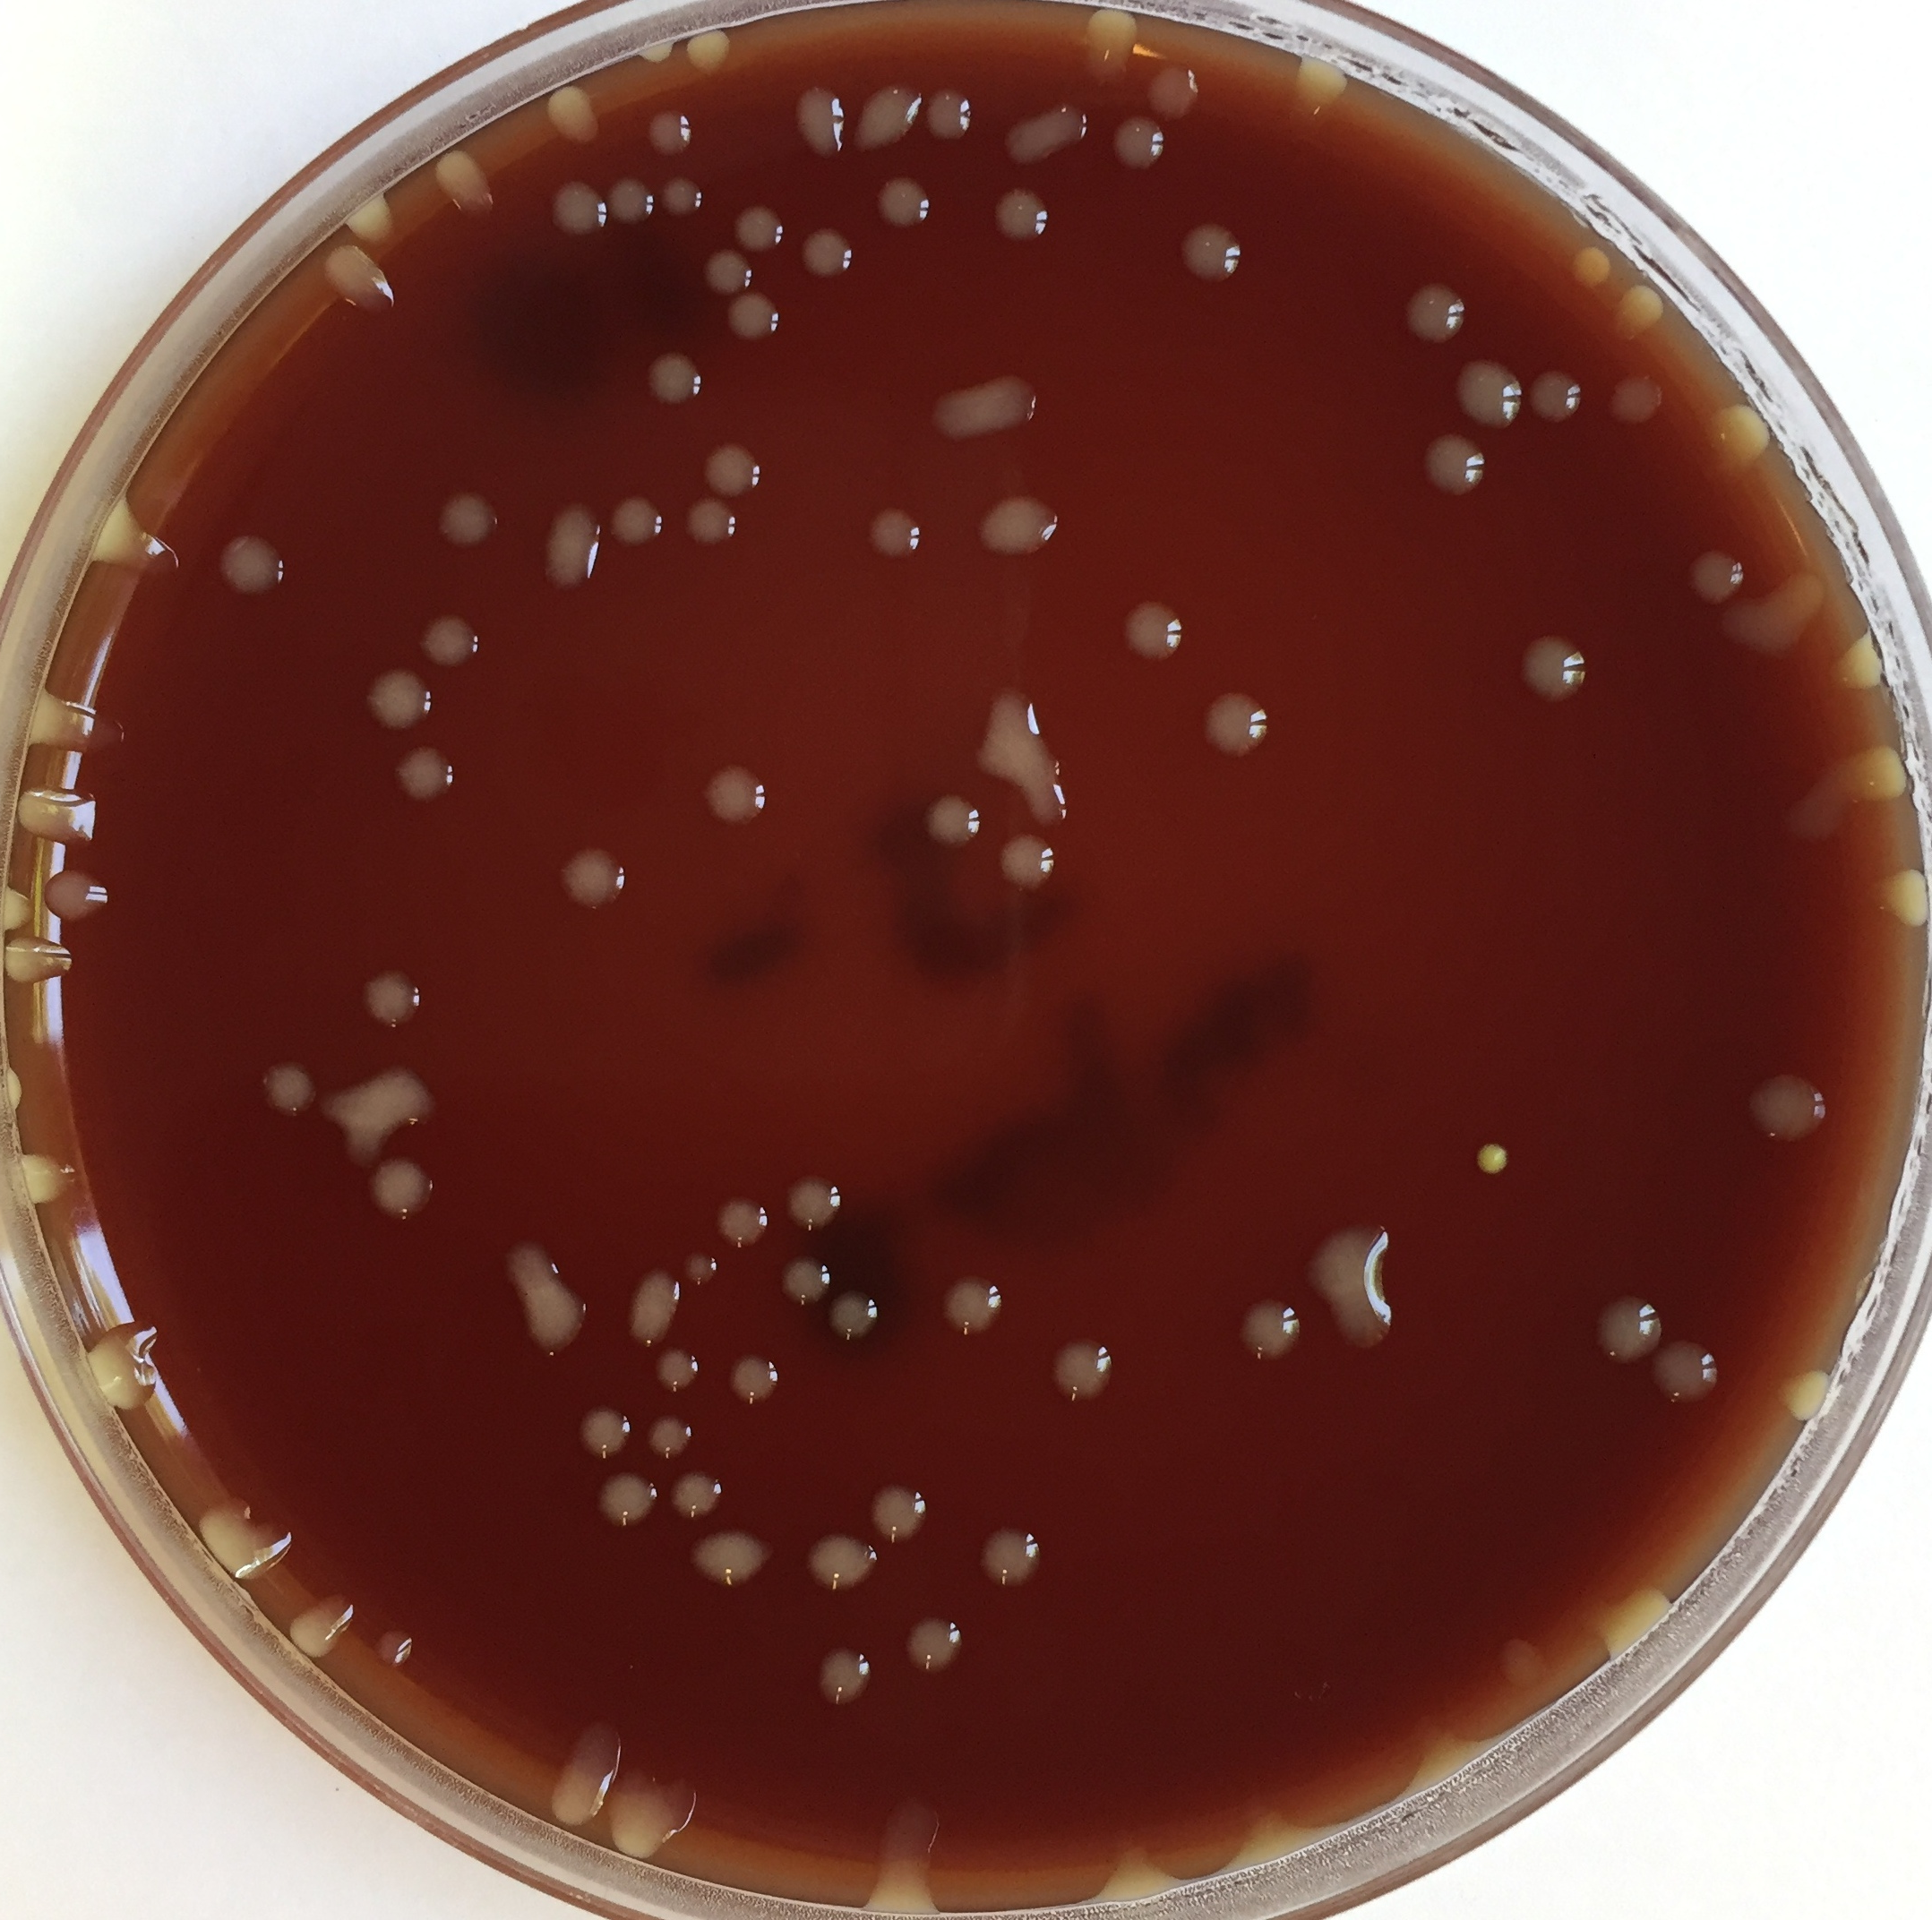sp19: (1313, 1203, 1415, 1350), (967, 679, 1074, 814), (606, 1755, 721, 1867), (506, 1227, 591, 1377), (320, 1057, 441, 1157), (863, 1781, 941, 1920), (86, 482, 181, 594), (1083, 1813, 1185, 1916), (547, 826, 645, 932), (76, 1310, 171, 1415), (1229, 1762, 1322, 1867), (190, 1489, 302, 1575), (1732, 563, 1827, 659), (1735, 1071, 1860, 1143), (311, 239, 401, 339), (1577, 1567, 1672, 1660), (18, 684, 121, 768), (540, 492, 619, 594), (352, 652, 445, 738), (1389, 1713, 1491, 1788), (355, 1146, 434, 1243), (979, 478, 1067, 564), (422, 141, 496, 243), (12, 777, 118, 847), (967, 1521, 1072, 1591), (1039, 1322, 1118, 1415), (531, 60, 601, 164), (812, 1621, 888, 1716), (933, 1262, 1018, 1347), (1517, 619, 1591, 714), (352, 962, 441, 1037), (1278, 40, 1357, 125), (849, 69, 919, 164), (930, 371, 1044, 429), (1391, 271, 1475, 348), (410, 598, 496, 673), (556, 1720, 619, 1820), (1593, 1278, 1661, 1368), (997, 818, 1064, 909), (988, 181, 1064, 258), (1420, 425, 1501, 498), (211, 515, 281, 598), (858, 499, 933, 575), (1174, 206, 1252, 280), (701, 760, 781, 832), (385, 737, 464, 809), (1705, 389, 1781, 462), (1192, 687, 1269, 760), (912, 782, 984, 860), (287, 1577, 357, 1656), (686, 1526, 774, 1589), (1002, 98, 1093, 158), (1104, 598, 1215, 647), (570, 1382, 633, 1466), (334, 179, 406, 253), (1610, 264, 1672, 350), (1447, 353, 1526, 420), (795, 1526, 875, 1591), (1241, 1282, 1303, 1366), (436, 487, 515, 552), (42, 863, 123, 927), (828, 1284, 898, 1356), (12, 1141, 86, 1210), (2, 937, 91, 993), (1786, 1352, 1849, 1431), (689, 425, 775, 484), (779, 1160, 849, 1231), (868, 1472, 935, 1545), (643, 348, 723, 410), (1783, 782, 1856, 847), (536, 176, 601, 250), (1844, 731, 1911, 802), (1485, 1621, 1559, 1684), (868, 176, 941, 239), (907, 1611, 969, 1684), (1102, 111, 1178, 171), (663, 1461, 744, 1516), (724, 297, 795, 359), (619, 1268, 686, 1331), (796, 220, 858, 288), (1083, 4, 1143, 74), (684, 16, 754, 76), (724, 1338, 782, 1410), (1827, 624, 1890, 689), (714, 1189, 779, 1252), (1667, 1327, 1735, 1385), (1682, 533, 1737, 605), (1605, 360, 1670, 420), (1146, 58, 1211, 118), (923, 79, 984, 141), (775, 1247, 833, 1312), (614, 487, 670, 554), (255, 1048, 311, 1115), (684, 492, 744, 554), (360, 1621, 422, 1681), (599, 1466, 656, 1531), (640, 1412, 700, 1470), (803, 84, 851, 155), (1565, 234, 1616, 299), (735, 199, 800, 250), (640, 98, 698, 155), (605, 160, 650, 223), (650, 1338, 700, 1396), (1536, 364, 1587, 418), (679, 1238, 735, 1287), (0, 1058, 40, 1125), (1878, 872, 1927, 927), (656, 165, 705, 220), (694, 250, 751, 297), (629, 25, 675, 74), (2, 874, 32, 932)
